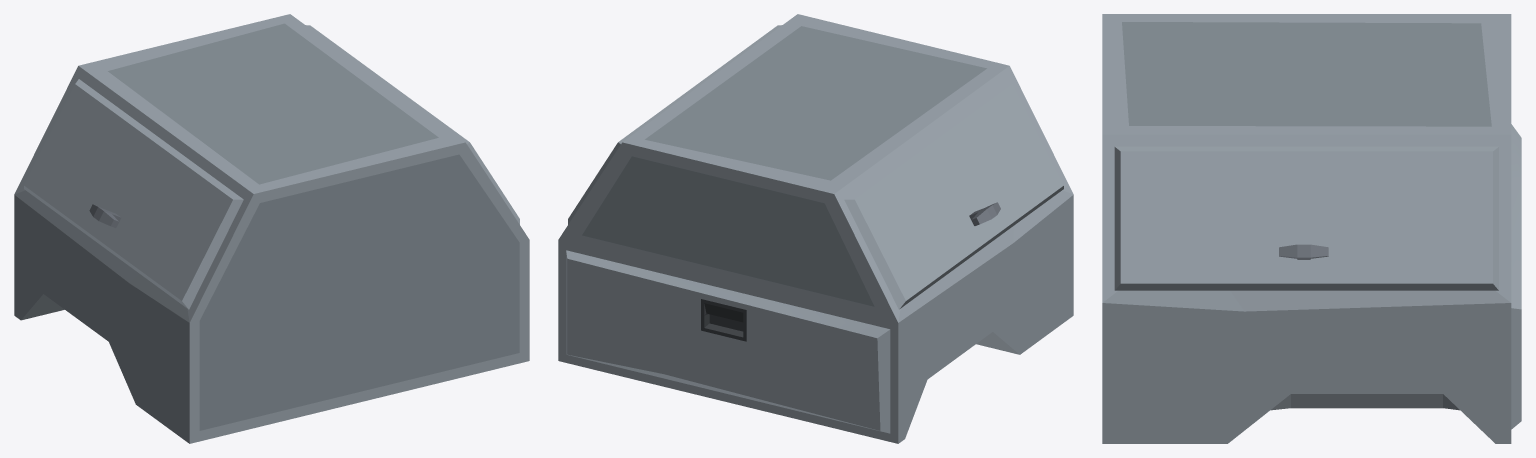
The model's file is SM_Veh_Pickup_01_ToolBox.fbx.
3 renders of one model, left to right at view 1: azimuth 30°, elevation 25°; view 2: azimuth 150°, elevation 25°; view 3: azimuth 270°, elevation 25°, orthographic. The views are drawn at different scales.
Visible parts, largest first — view 1: SM_Veh_Pickup_01_ToolBox; view 2: SM_Veh_Pickup_01_ToolBox; view 3: SM_Veh_Pickup_01_ToolBox.
Part boxes in pixels (x1,y1,x2,y2): SM_Veh_Pickup_01_ToolBox: (14,14,529,443); SM_Veh_Pickup_01_ToolBox: (558,14,1073,443); SM_Veh_Pickup_01_ToolBox: (1102,14,1521,443).
Bounding box in the file's own units: 183 × 116 × 161.
